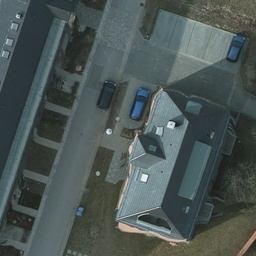car: (224, 33, 242, 64), (131, 90, 147, 119), (98, 80, 112, 110)
